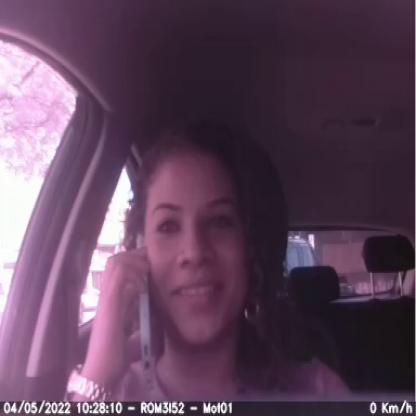phone: (118, 231, 159, 390)
